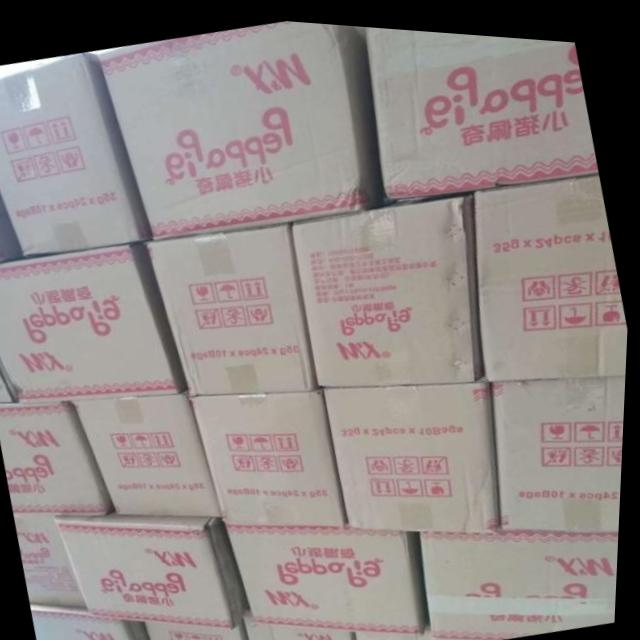box: (97, 17, 390, 237), (366, 21, 599, 202), (289, 187, 483, 382), (468, 164, 630, 375), (0, 237, 192, 399), (0, 53, 152, 254), (151, 217, 321, 392), (321, 374, 504, 523), (411, 522, 623, 633), (192, 379, 351, 521), (229, 520, 431, 630), (57, 512, 247, 628), (494, 365, 629, 523), (72, 392, 227, 513), (0, 397, 117, 513), (19, 511, 88, 612), (37, 605, 157, 640), (247, 613, 362, 640), (151, 614, 253, 640), (361, 624, 492, 640), (0, 195, 24, 261), (0, 359, 19, 399)
